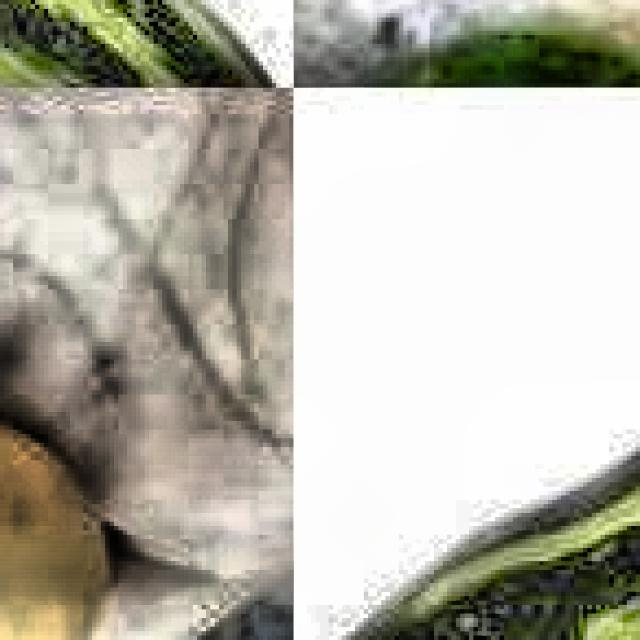bell_pepper: (294, 1, 640, 88)
egg: (0, 390, 127, 640)
zucchini: (294, 88, 640, 640)
